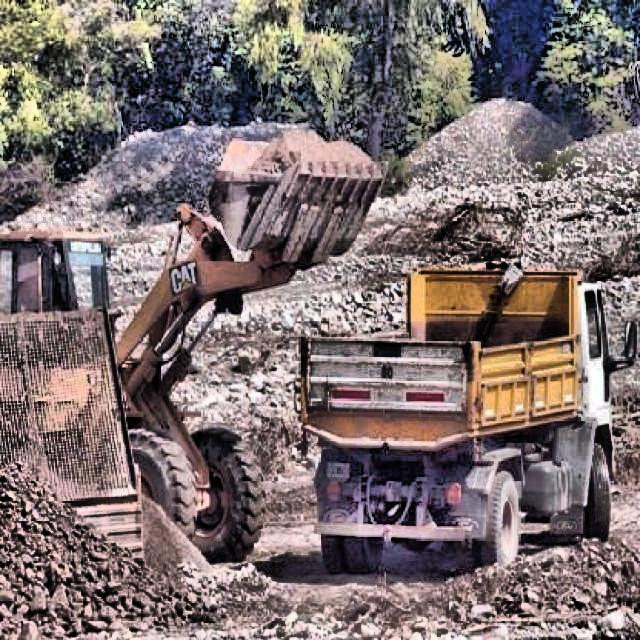dump_truck: (298, 269, 640, 580)
